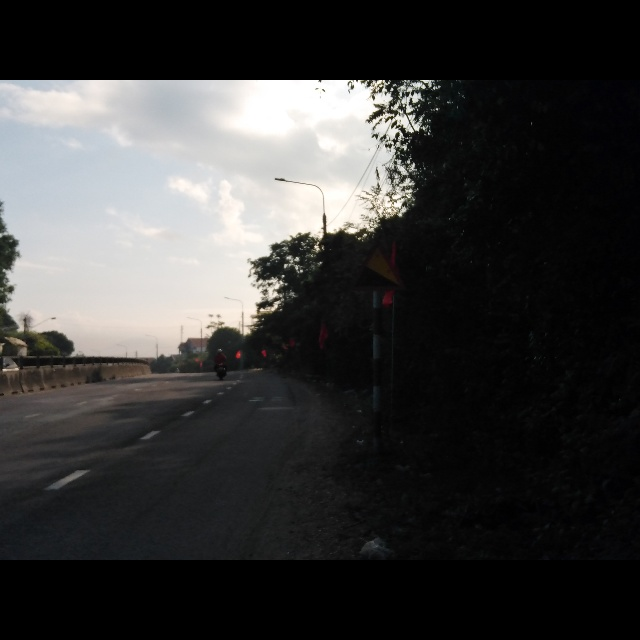Dốc lên nguy hiểm: (346, 239, 405, 294)
